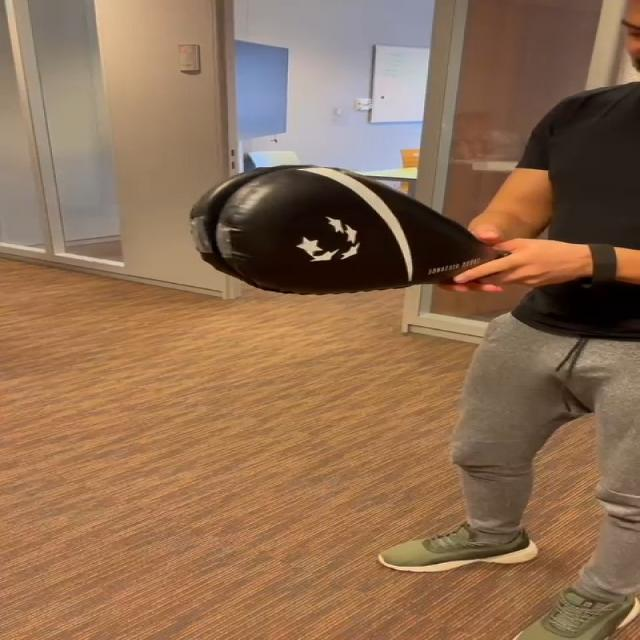paddle: (194, 165, 442, 291)
